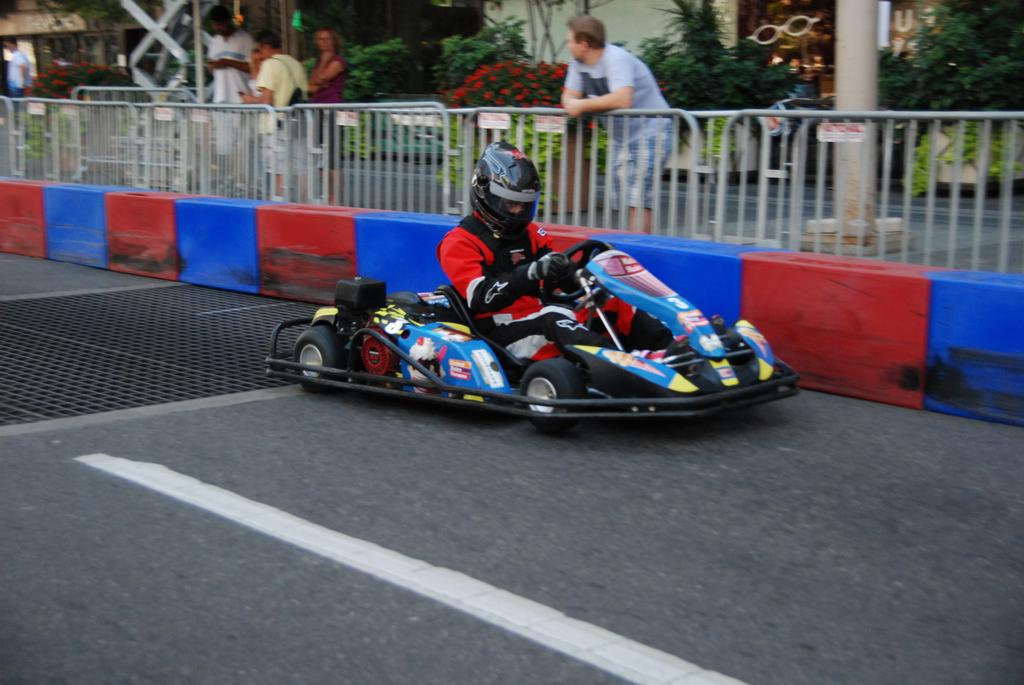helmet: (470, 142, 541, 238)
nohelmet: (564, 14, 607, 65), (253, 28, 284, 62), (206, 4, 234, 38), (313, 26, 339, 54), (2, 35, 18, 53)
